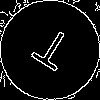T: (25, 25, 76, 80)
